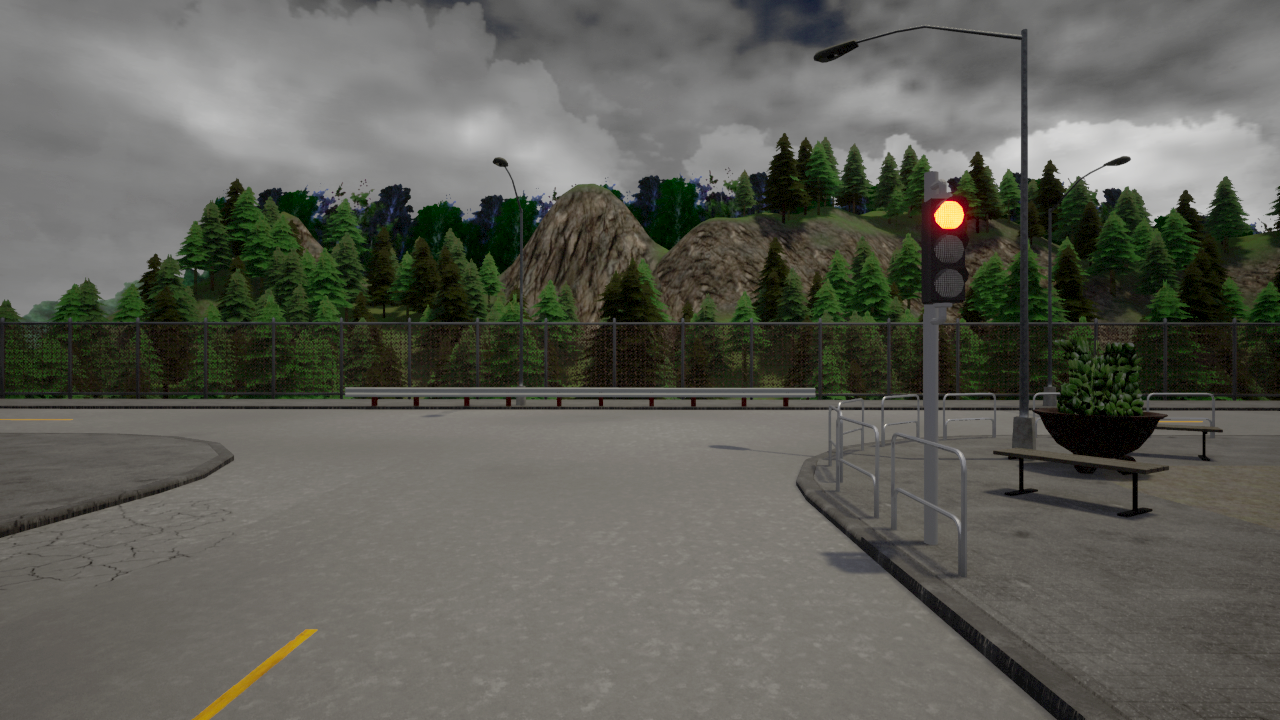red: (920, 192, 970, 301)
